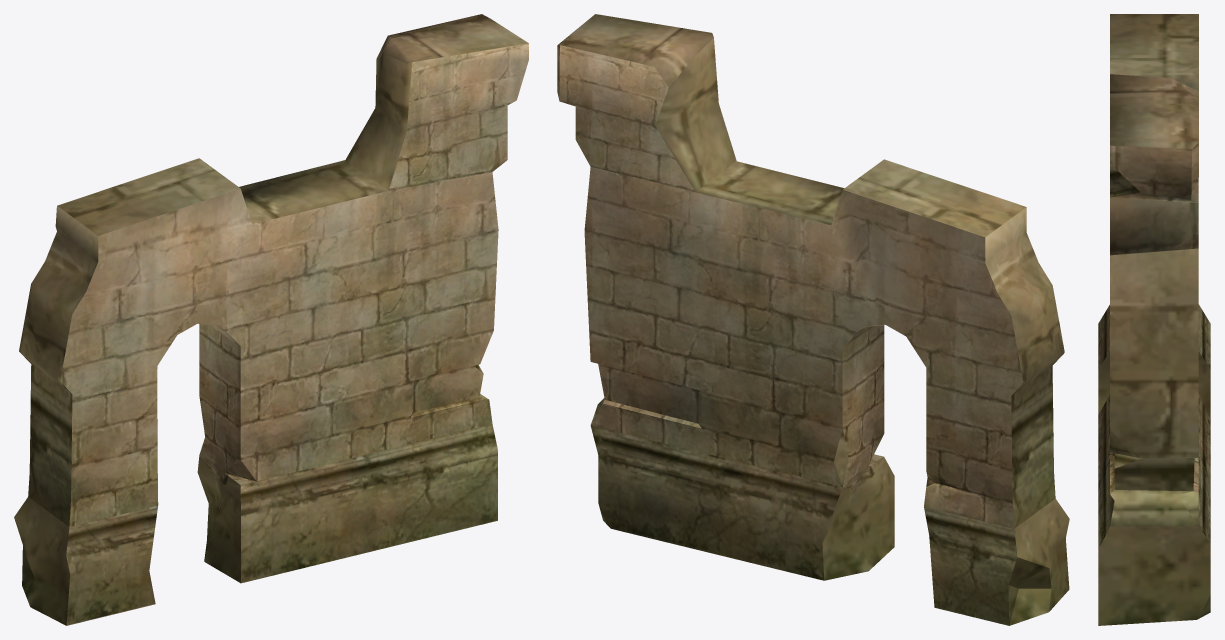
File: environment_common_Stonewall_002_c.FBX
3 renders of one model, left to right at view 1: azimuth 30°, elevation 25°; view 2: azimuth 150°, elevation 25°; view 3: azimuth 270°, elevation 25°, orthographic. The views are drawn at different scales.
Visible parts, largest first — view 1: environment_common_Stonewall_002_c; view 2: environment_common_Stonewall_002_c; view 3: environment_common_Stonewall_002_c.
Part boxes in pixels (x1,y1,x2,y2): environment_common_Stonewall_002_c: [14, 14, 528, 625]; environment_common_Stonewall_002_c: [557, 14, 1069, 625]; environment_common_Stonewall_002_c: [1098, 14, 1210, 625].
Size of the model in its own units: 303 by 287 by 57.43.
